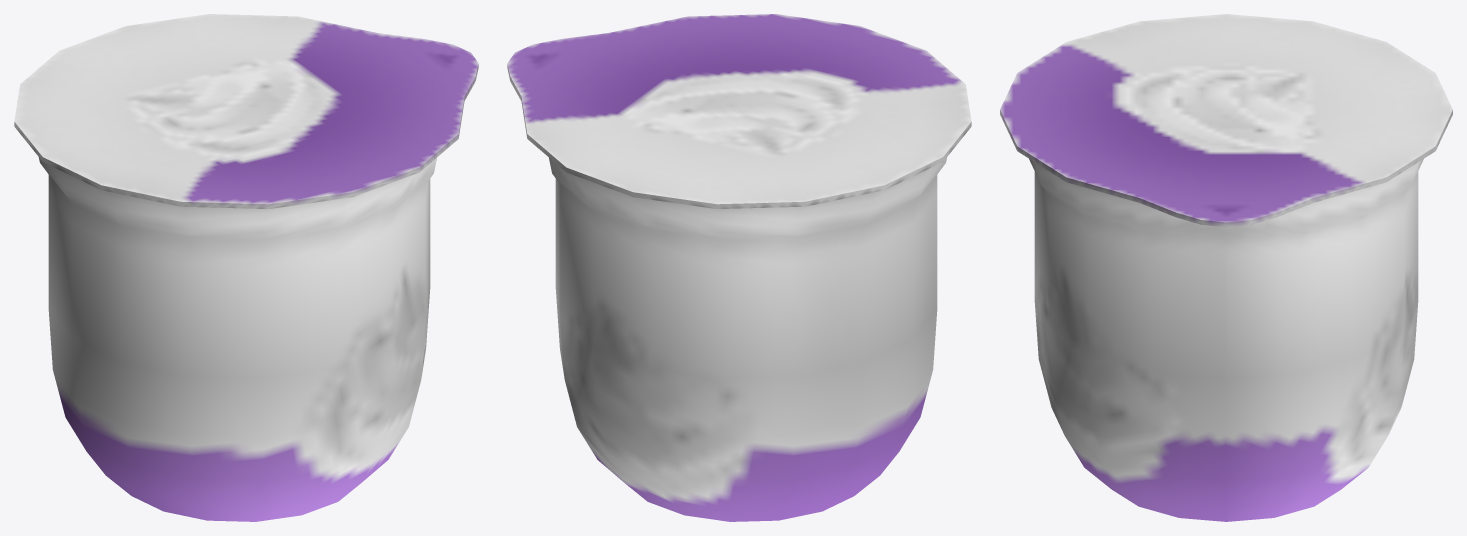
Rendered from Yogurt.FBX.
3 views of the same model, side by side, from view 1: azimuth 30°, elevation 25°; view 2: azimuth 150°, elevation 25°; view 3: azimuth 270°, elevation 25° (orthographic).
Visible parts, largest first — view 1: Yogurt; view 2: Yogurt; view 3: Yogurt.
Boxes of the visible parts, box(x1,y1,x2,y2) form: Yogurt: box(14, 14, 478, 521); Yogurt: box(507, 14, 971, 521); Yogurt: box(1000, 14, 1452, 521).
Size of the model in its own units: 149 by 120 by 137.
